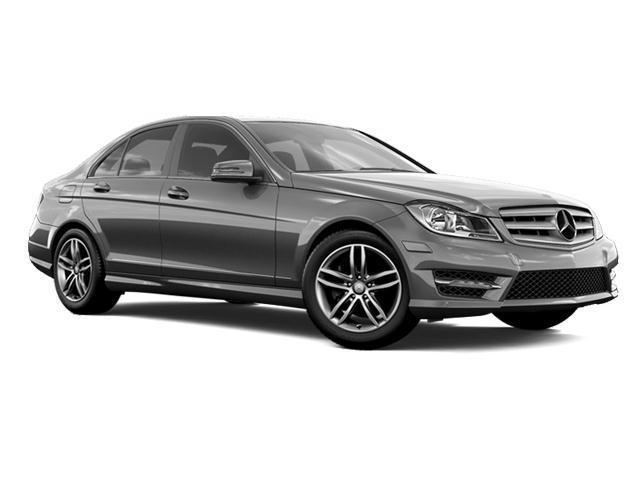car: (24, 114, 623, 351)
